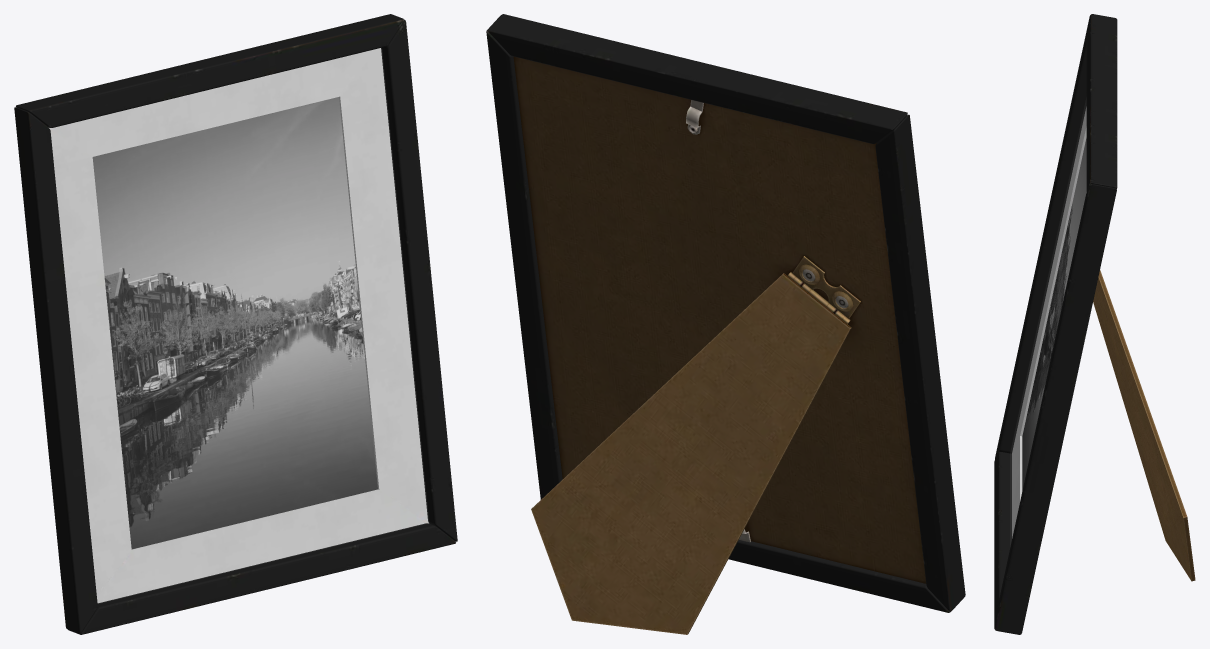
Rendered from ph-picture-frame.glb.
3 renders of one model, left to right at view 1: azimuth 30°, elevation 25°; view 2: azimuth 150°, elevation 25°; view 3: azimuth 270°, elevation 25°, orthographic. The views are drawn at different scales.
Visible parts, largest first — view 1: standing_picture_frame_01; view 2: standing_picture_frame_01; view 3: standing_picture_frame_01.
Boxes of the visible parts, x1,y1,x2,y2 form: standing_picture_frame_01: [14, 14, 457, 634]; standing_picture_frame_01: [486, 14, 965, 634]; standing_picture_frame_01: [994, 14, 1195, 634].
Size of the model in its own units: 0.2008 by 0.2497 by 0.1003.
3 materials, 2 textured.
